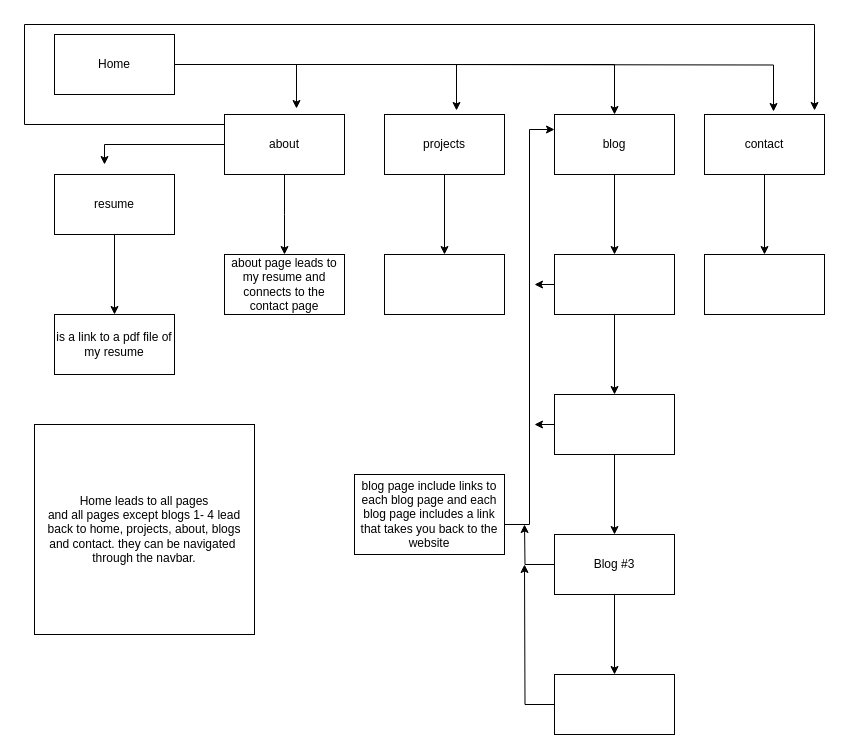
This 842x752 diagram has some shape labels left out. Here are the shapes that lost their labels. From the top down, the centre of each, then its label:
(444,284): projects page has a 4 projects that don't go anywhere
(614,284): Blog #1
(764,284): contact page leads to GitHub, LinkedIn and starts a test email.
(614,424): Blog #2
(614,704): Blog #4
